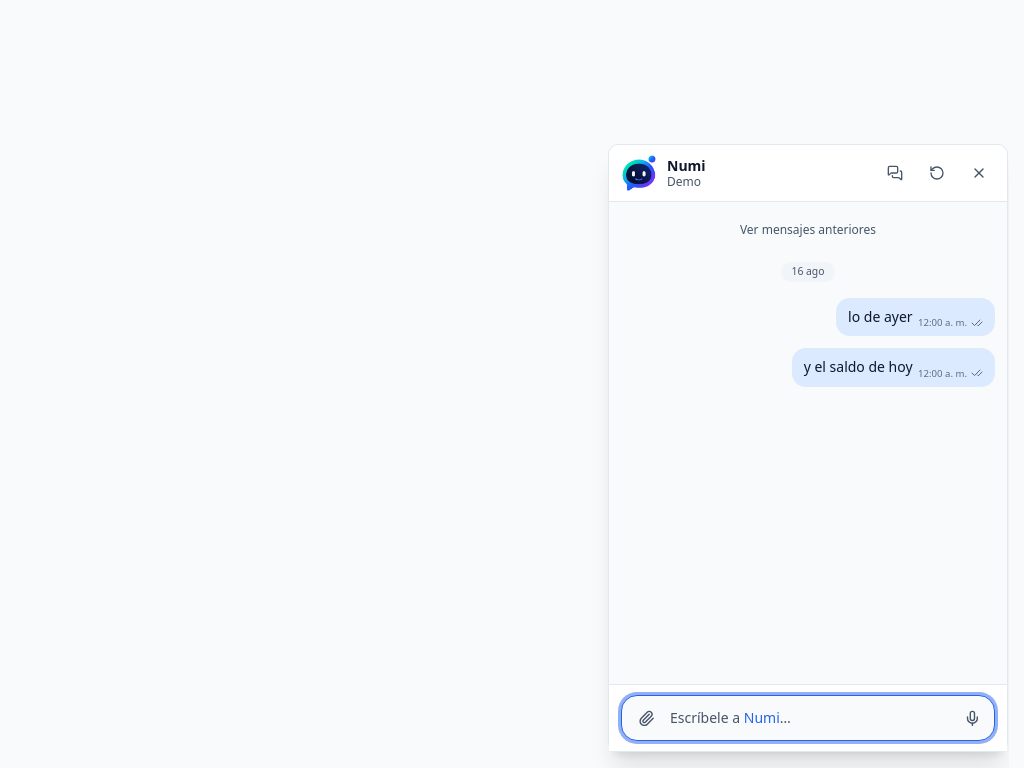
it: subir en el hilo trae la conversación anterior, y la pone por encima
Expected: the text "lo de ayer" is shown, [848,307,913,326]
Expected: the text "y el saldo de hoy" is shown, [804,357,913,376]
Click the button "Ver mensajes anteriores". click: click(808, 230)
box: [728,218,888,242]
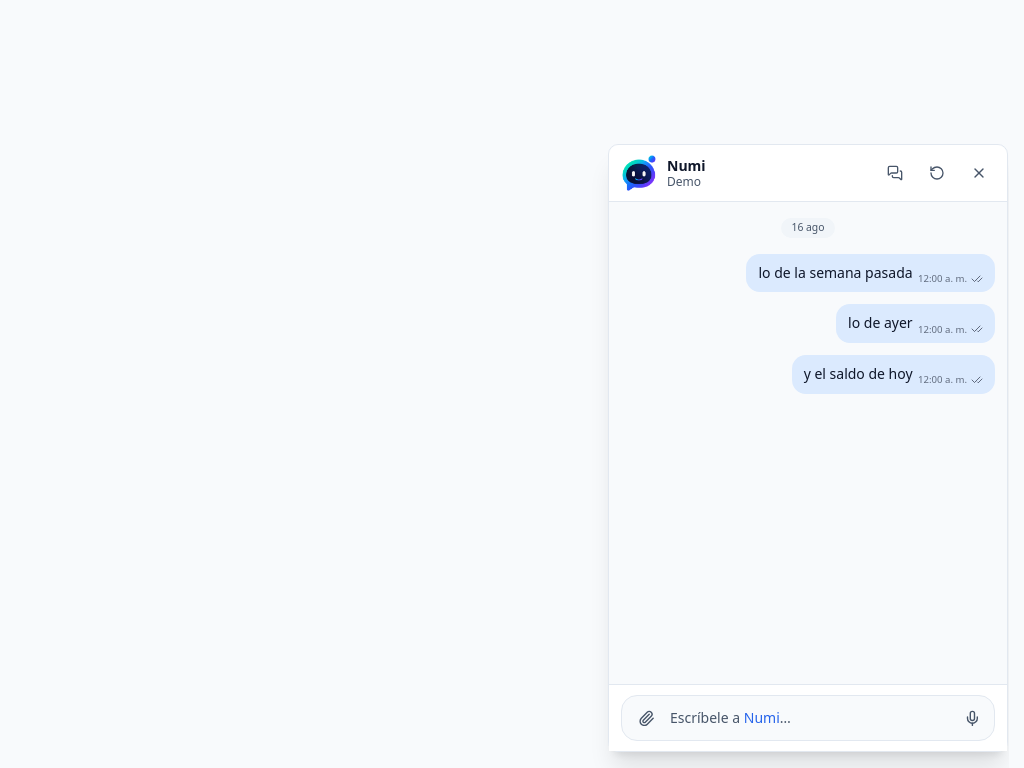
Expected: the text "lo de la semana pasada" is shown, [758,263,913,282]
